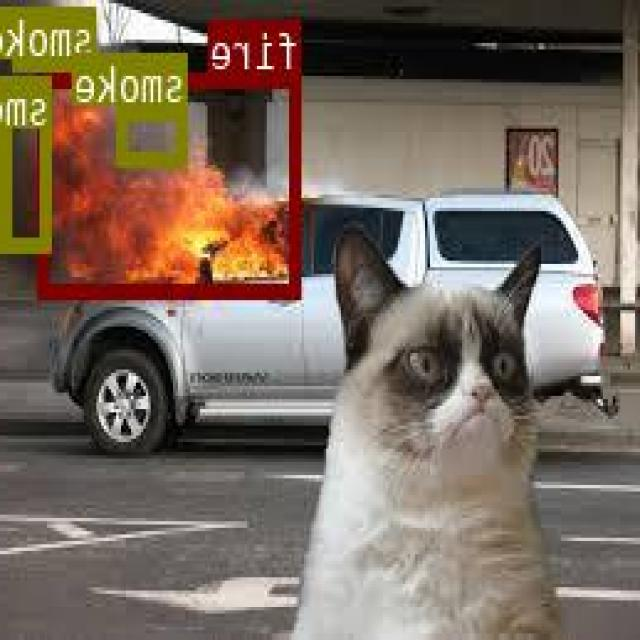fire: (40, 70, 304, 296)
smoke: (5, 74, 53, 248), (17, 6, 99, 68), (120, 104, 189, 162)
